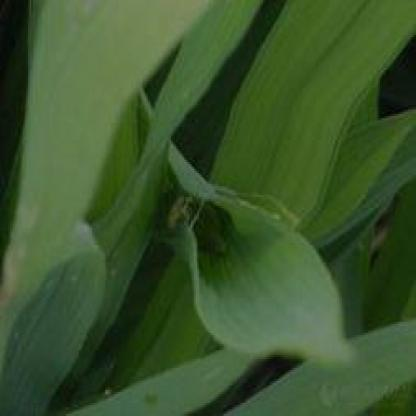leaf-folder: (146, 162, 244, 265)
